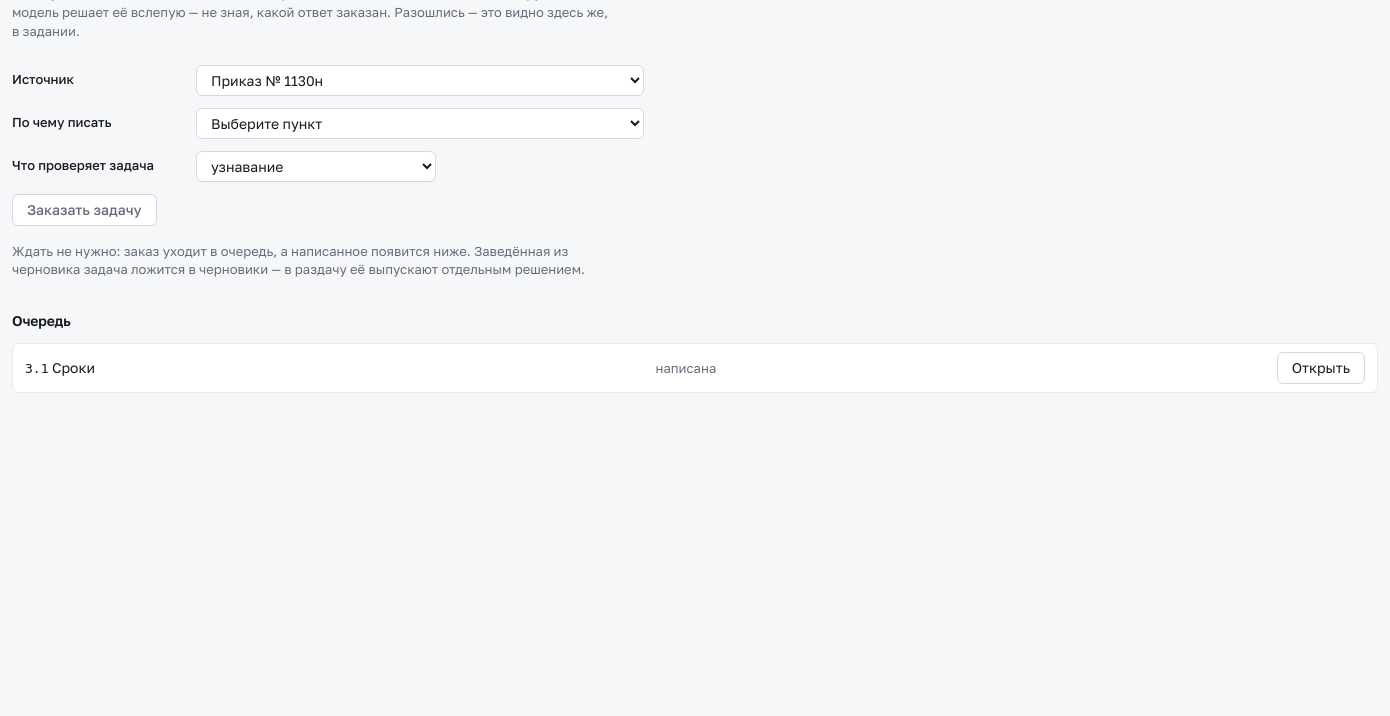
слепая сверка и повтор › подтверждённое разбором расхождение называет соседа
Click the button "Открыть": [1321, 368] box [1277,352,1365,384]
(page scrolled)
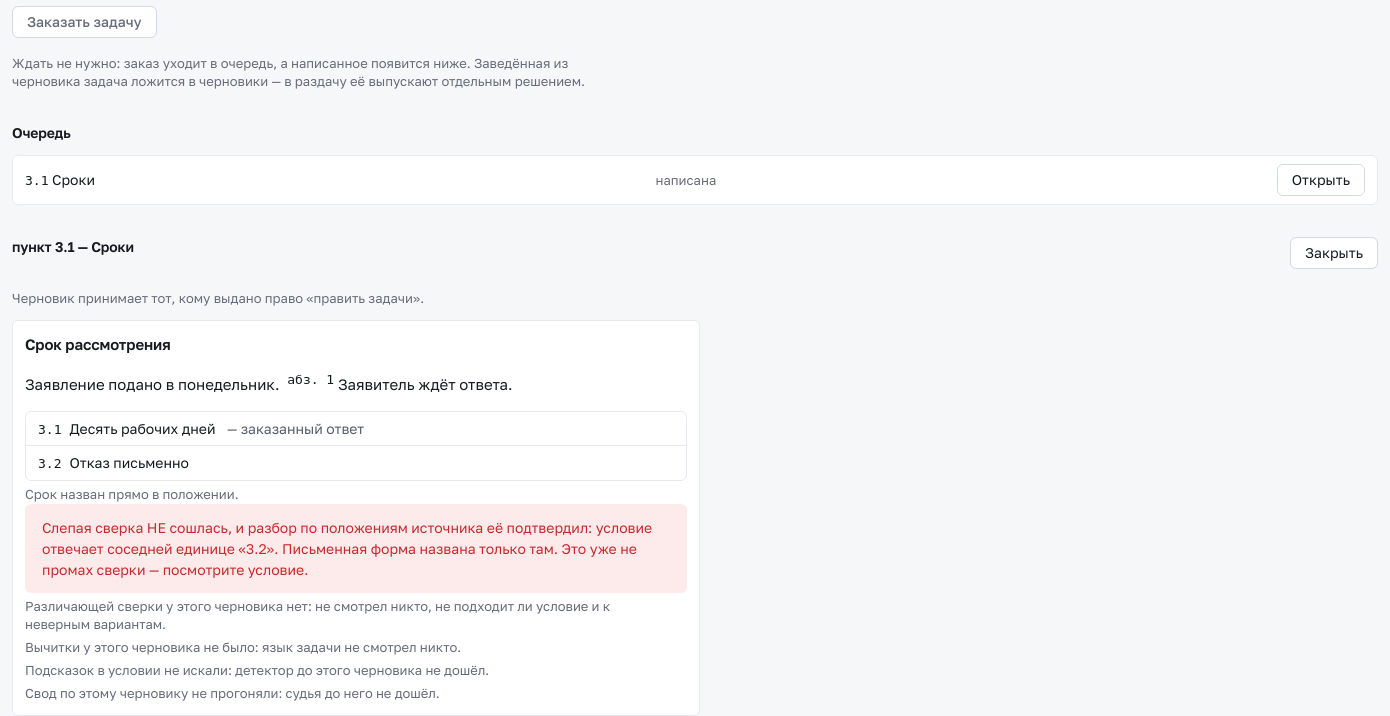
Expected: the text "3.2" is shown, [104,540,274,556]
Expected: the text "Письменная форма" is shown, [282,540,558,556]
